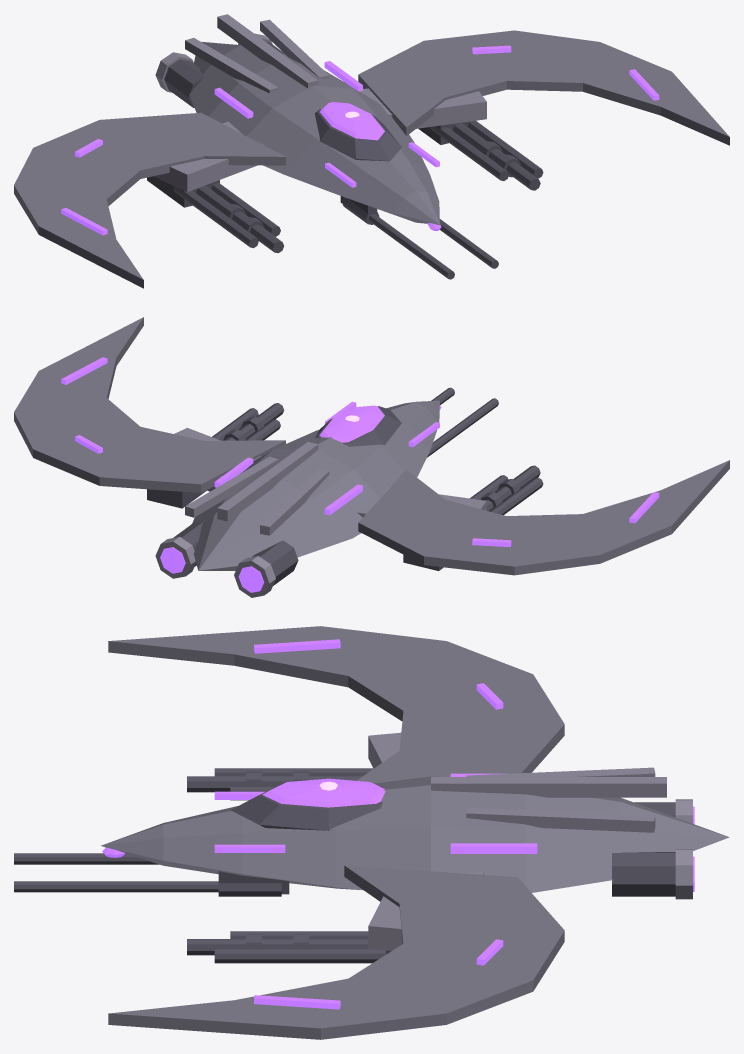
The model's file is reaver.glb.
The picture shows the model from 3 angles, top to bottom: view 1: azimuth 30°, elevation 25°; view 2: azimuth 150°, elevation 25°; view 3: azimuth 270°, elevation 25°; orthographic projection. The views are drawn at different scales.
Visible parts, largest first — view 1: Reaver_Wing_S, Reaver_Wing_P, Reaver_Hull, Reaver_CanopyFrame, Reaver_SpineRidge, Reaver_WingSpar_P, Reaver_WingSpar_S, Reaver_Canopy, Reaver_SideRidge_P, Reaver_Engine_L, Reaver_WingBarrel_P2, Reaver_SideRidge_S (+9 smaller); view 2: Reaver_Wing_P, Reaver_Wing_S, Reaver_Hull, Reaver_SpineRidge, Reaver_Canopy, Reaver_SideRidge_S, Reaver_SideRidge_P, Reaver_CanopyFrame, Reaver_Engine_L, Reaver_NozzleRing_L, Reaver_NozzleRing_R, Reaver_ChinCannon_P (+7 smaller); view 3: Reaver_Hull, Reaver_Wing_S, Reaver_Wing_P, Reaver_SpineRidge, Reaver_SideRidge_S, Reaver_CanopyFrame, Reaver_Engine_R, Reaver_Canopy, Reaver_WingBarrel_S2, Reaver_ChinCannon_S, Reaver_WingBarrel_S1, Reaver_WingSpar_S (+11 smaller).
Part boxes in pixels (x1,y1,x2,y2): Reaver_Wing_S: (358, 30, 729, 145); Reaver_Wing_P: (14, 112, 285, 288); Reaver_Hull: (189, 41, 439, 224); Reaver_CanopyFrame: (314, 109, 401, 161); Reaver_SpineRidge: (217, 14, 318, 88); Reaver_WingSpar_P: (153, 121, 264, 192); Reaver_WingSpar_S: (360, 88, 486, 128); Reaver_Canopy: (320, 102, 384, 140); Reaver_SideRidge_P: (185, 37, 278, 93); Reaver_Engine_L: (164, 59, 203, 107); Reaver_WingBarrel_P2: (173, 186, 258, 248); Reaver_SideRidge_S: (260, 19, 329, 78); Reaver_Wing_P: (358, 460, 729, 575); Reaver_Wing_S: (14, 317, 285, 492); Reaver_Hull: (192, 400, 439, 570); Reaver_SpineRidge: (217, 442, 318, 521); Reaver_Canopy: (320, 405, 384, 442); Reaver_SideRidge_S: (185, 456, 278, 517); Reaver_SideRidge_P: (260, 469, 329, 535); Reaver_CanopyFrame: (315, 406, 401, 446); Reaver_Engine_L: (252, 540, 298, 585); Reaver_NozzleRing_L: (234, 556, 275, 597); Reaver_NozzleRing_R: (155, 536, 195, 578); Reaver_ChinCannon_P: (427, 398, 498, 457); Reaver_Hull: (101, 776, 729, 892); Reaver_Wing_S: (108, 865, 564, 1039); Reaver_Wing_P: (108, 626, 564, 783); Reaver_SpineRidge: (431, 777, 666, 797); Reaver_SideRidge_S: (466, 807, 655, 832); Reaver_CanopyFrame: (230, 784, 382, 830); Reaver_Engine_R: (612, 852, 675, 896); Reaver_Canopy: (262, 778, 385, 807); Reaver_WingBarrel_S2: (214, 949, 385, 963); Reaver_ChinCannon_S: (14, 881, 218, 892); Reaver_WingBarrel_S1: (187, 939, 370, 955); Reaver_WingSpar_S: (368, 871, 483, 950).
Bounding box in the file's own units: 12.1 × 1.6 × 9.1.
